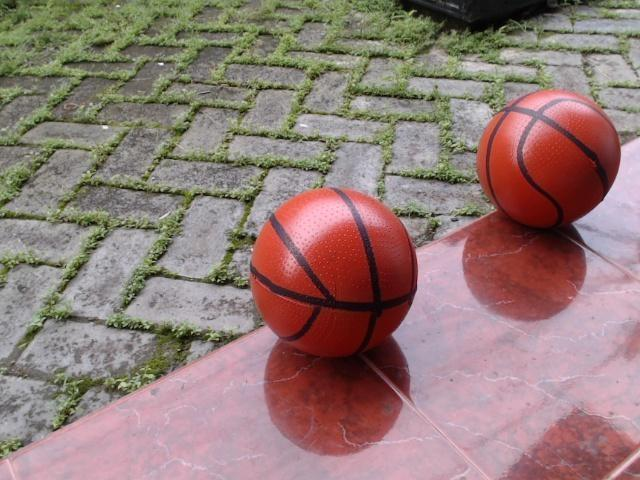Sports-Ball: (250, 183, 421, 356), (471, 93, 625, 233)
